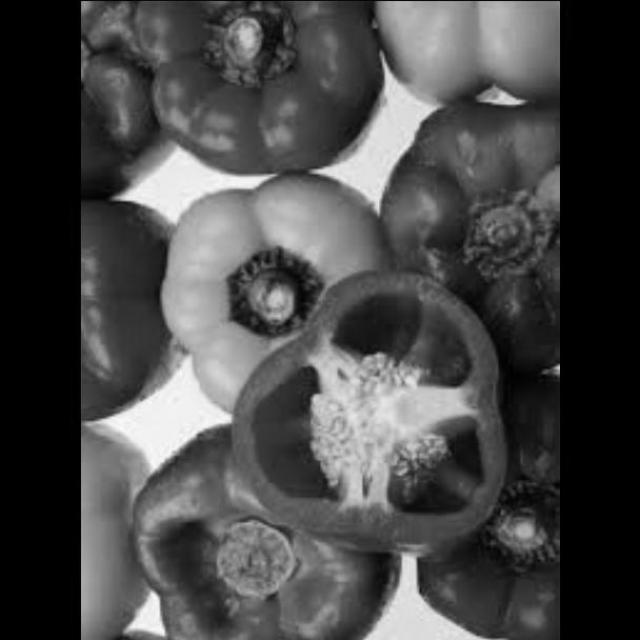ot chuong: (226, 267, 506, 568), (155, 161, 392, 416), (128, 429, 404, 640), (361, 94, 559, 358), (136, 1, 400, 180), (399, 368, 559, 630), (80, 189, 180, 430), (357, 0, 559, 100), (79, 410, 166, 640), (80, 1, 152, 220)
